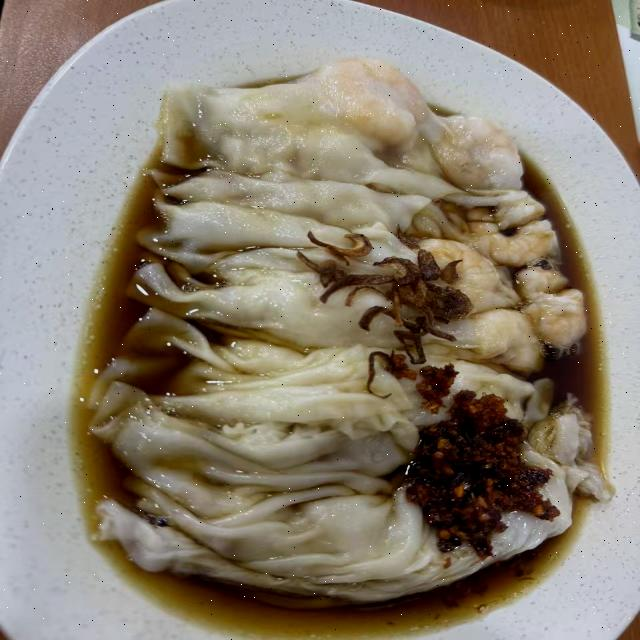Chee Cheong Fun: (22, 40, 609, 632)
